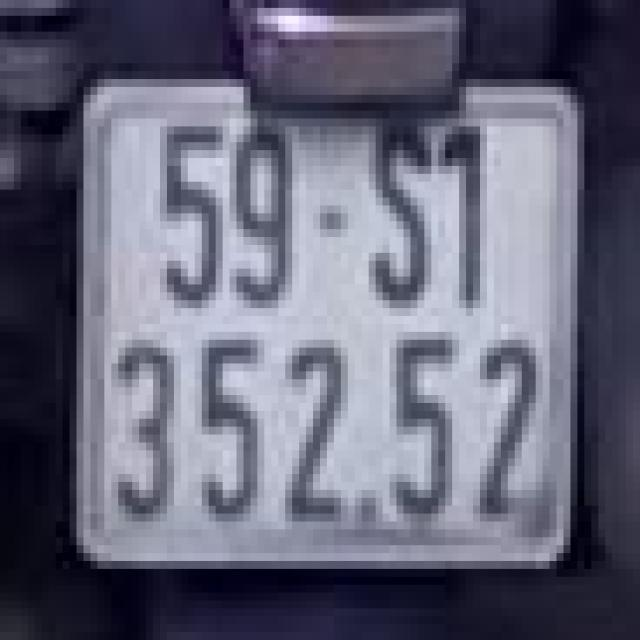1: (431, 111, 494, 324)
2: (275, 332, 358, 529), (477, 332, 546, 521)
3: (108, 328, 184, 525)
5: (383, 328, 466, 533), (146, 115, 230, 312), (191, 316, 268, 522)
9: (226, 111, 296, 316)
S: (362, 115, 438, 312)
